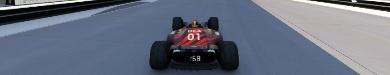Car: (148, 15, 239, 70)
Solid White and black: (247, 0, 389, 74)
